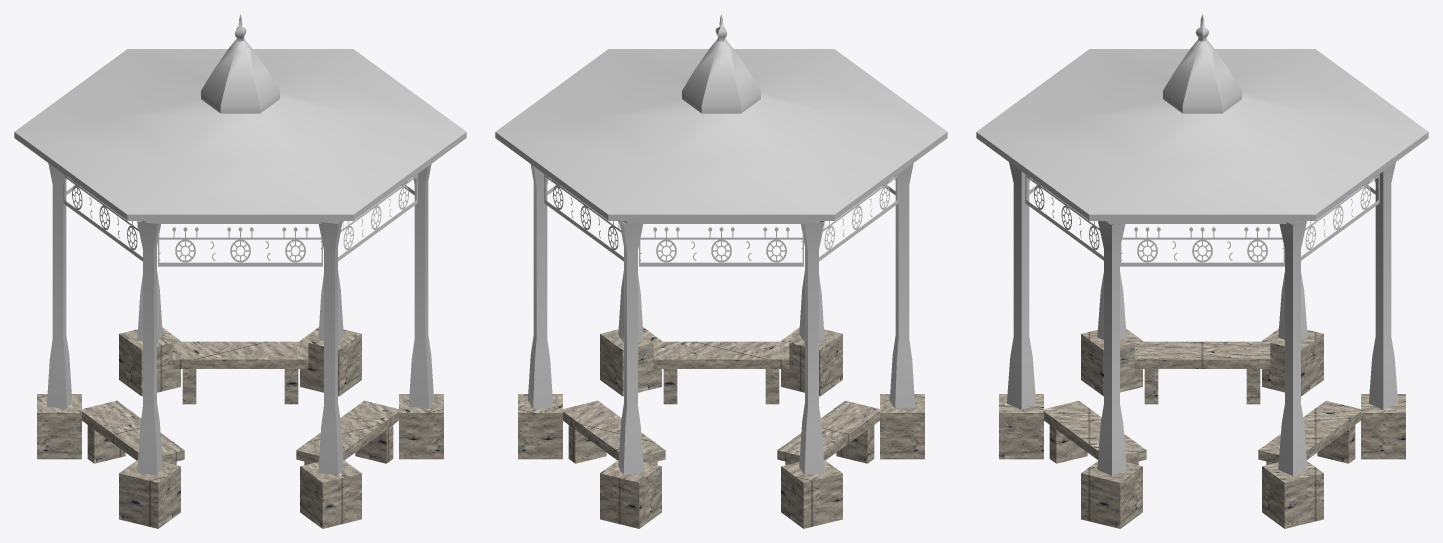
The model's file is SM_Morin_Gazebo_LOD2.fbx.
The picture shows the model from 3 angles, left to right: view 1: azimuth 30°, elevation 25°; view 2: azimuth 150°, elevation 25°; view 3: azimuth 270°, elevation 25°; orthographic projection.
Parts seen in each view (by area): view 1: SM_Morin_Gazebo_LOD2; view 2: SM_Morin_Gazebo_LOD2; view 3: SM_Morin_Gazebo_LOD2.
Boxes of the visible parts, <box> form: SM_Morin_Gazebo_LOD2: <box>14,14,466,528</box>; SM_Morin_Gazebo_LOD2: <box>495,14,947,528</box>; SM_Morin_Gazebo_LOD2: <box>976,14,1428,528</box>.
Size of the model in its own units: 346 by 400 by 425.
3 materials, 1 textured.
